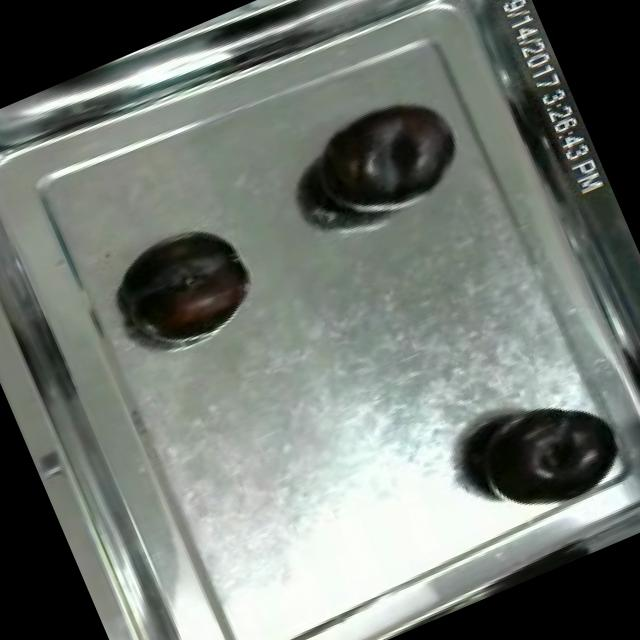Fruit: (449, 374, 636, 536), (294, 78, 476, 238), (107, 210, 266, 356)
